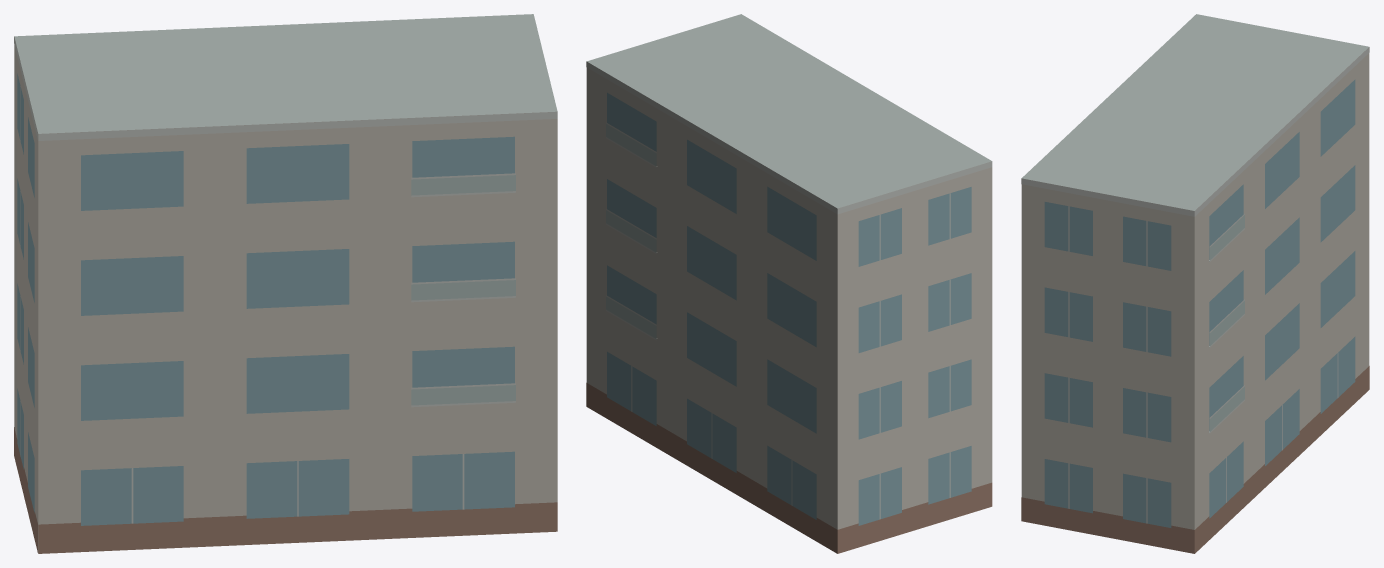
The model's file is survey-upis-33013817.glb.
3 renders of one model, left to right at view 1: azimuth 30°, elevation 25°; view 2: azimuth 150°, elevation 25°; view 3: azimuth 270°, elevation 25°, orthographic. The views are drawn at different scales.
Visible parts, largest first — view 1: survey-upis-33013817.tmp; view 2: survey-upis-33013817.tmp; view 3: survey-upis-33013817.tmp.
Boxes of the visible parts, x1,y1,x2,y2 form: survey-upis-33013817.tmp: (14, 14, 557, 553); survey-upis-33013817.tmp: (586, 14, 992, 553); survey-upis-33013817.tmp: (1021, 14, 1369, 553).
Bounding box in the file's own units: 17.63 × 14.3 × 13.16.
